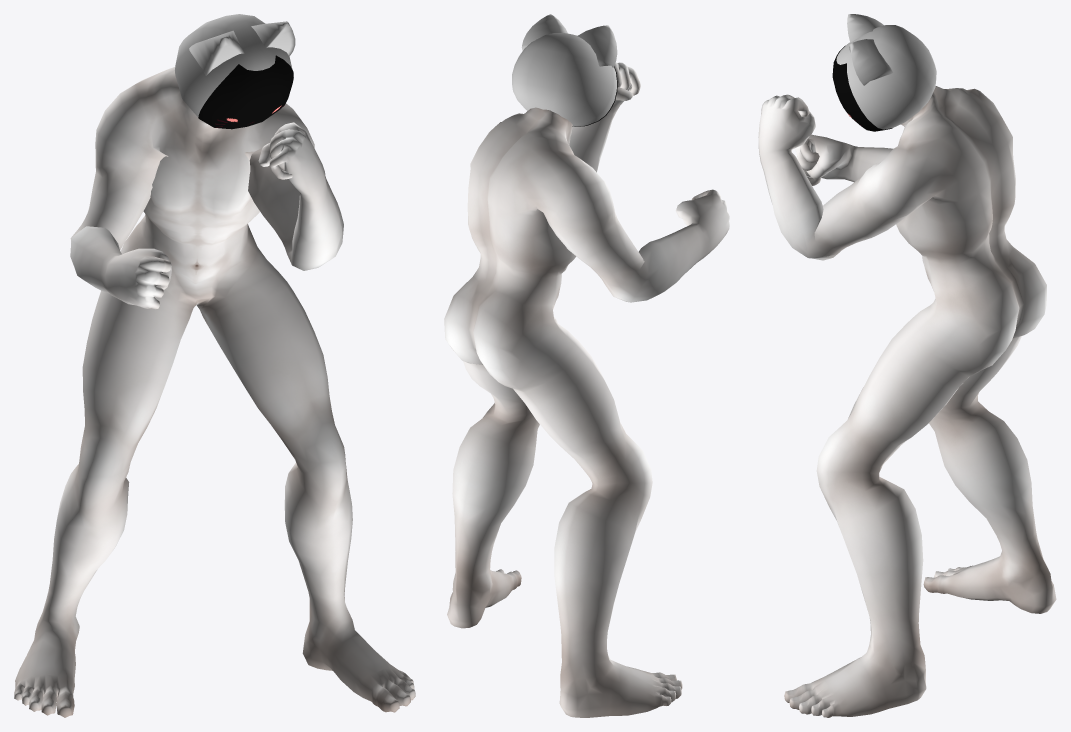
The picture shows the model from 3 angles, left to right: view 1: azimuth 30°, elevation 25°; view 2: azimuth 150°, elevation 25°; view 3: azimuth 270°, elevation 25°; orthographic projection. The views are drawn at different scales.
Parts seen in each view (by area): view 1: Muscle_Body, Cat_Head, ______?001; view 2: Muscle_Body, Cat_Head; view 3: Muscle_Body, Cat_Head, ______?001.
Part boxes in pixels (x1,y1,x2,y2): Muscle_Body: (14, 67, 415, 717); Cat_Head: (175, 14, 295, 116); ______?001: (198, 55, 293, 129); Muscle_Body: (444, 62, 729, 717); Cat_Head: (512, 14, 617, 126); Muscle_Body: (758, 86, 1056, 717); Cat_Head: (836, 14, 936, 129); ______?001: (832, 45, 892, 131).
Size of the model in its own units: 12.71 by 26.35 by 11.32.
